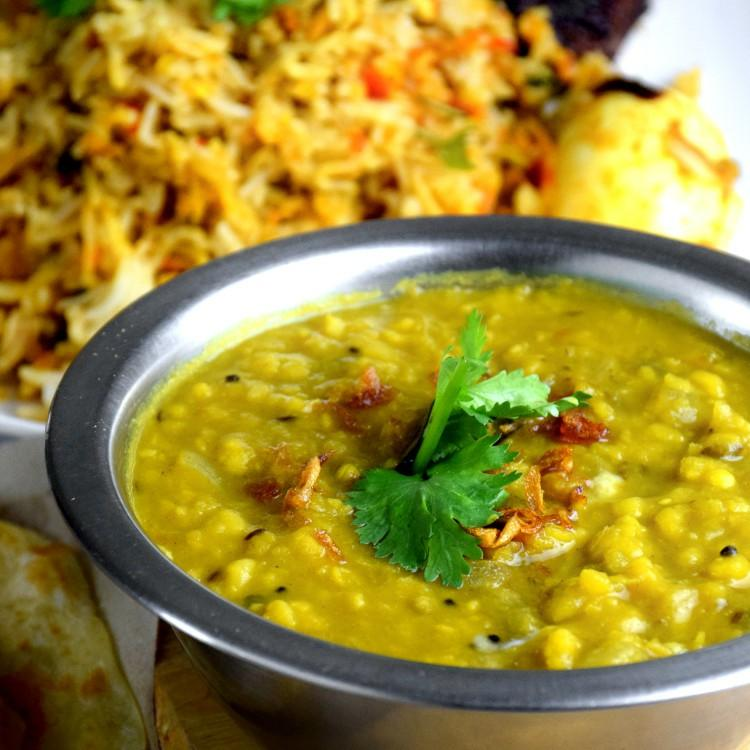Dal: (126, 289, 750, 668)
WhiteRice: (0, 0, 598, 418)
